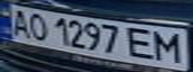1: (48, 15, 72, 46)
2: (66, 17, 84, 50)
7: (100, 21, 124, 55)
9: (81, 20, 106, 52)
A: (6, 7, 33, 38)
E: (124, 25, 160, 61)
M: (148, 29, 190, 64)
O: (24, 11, 51, 42)
